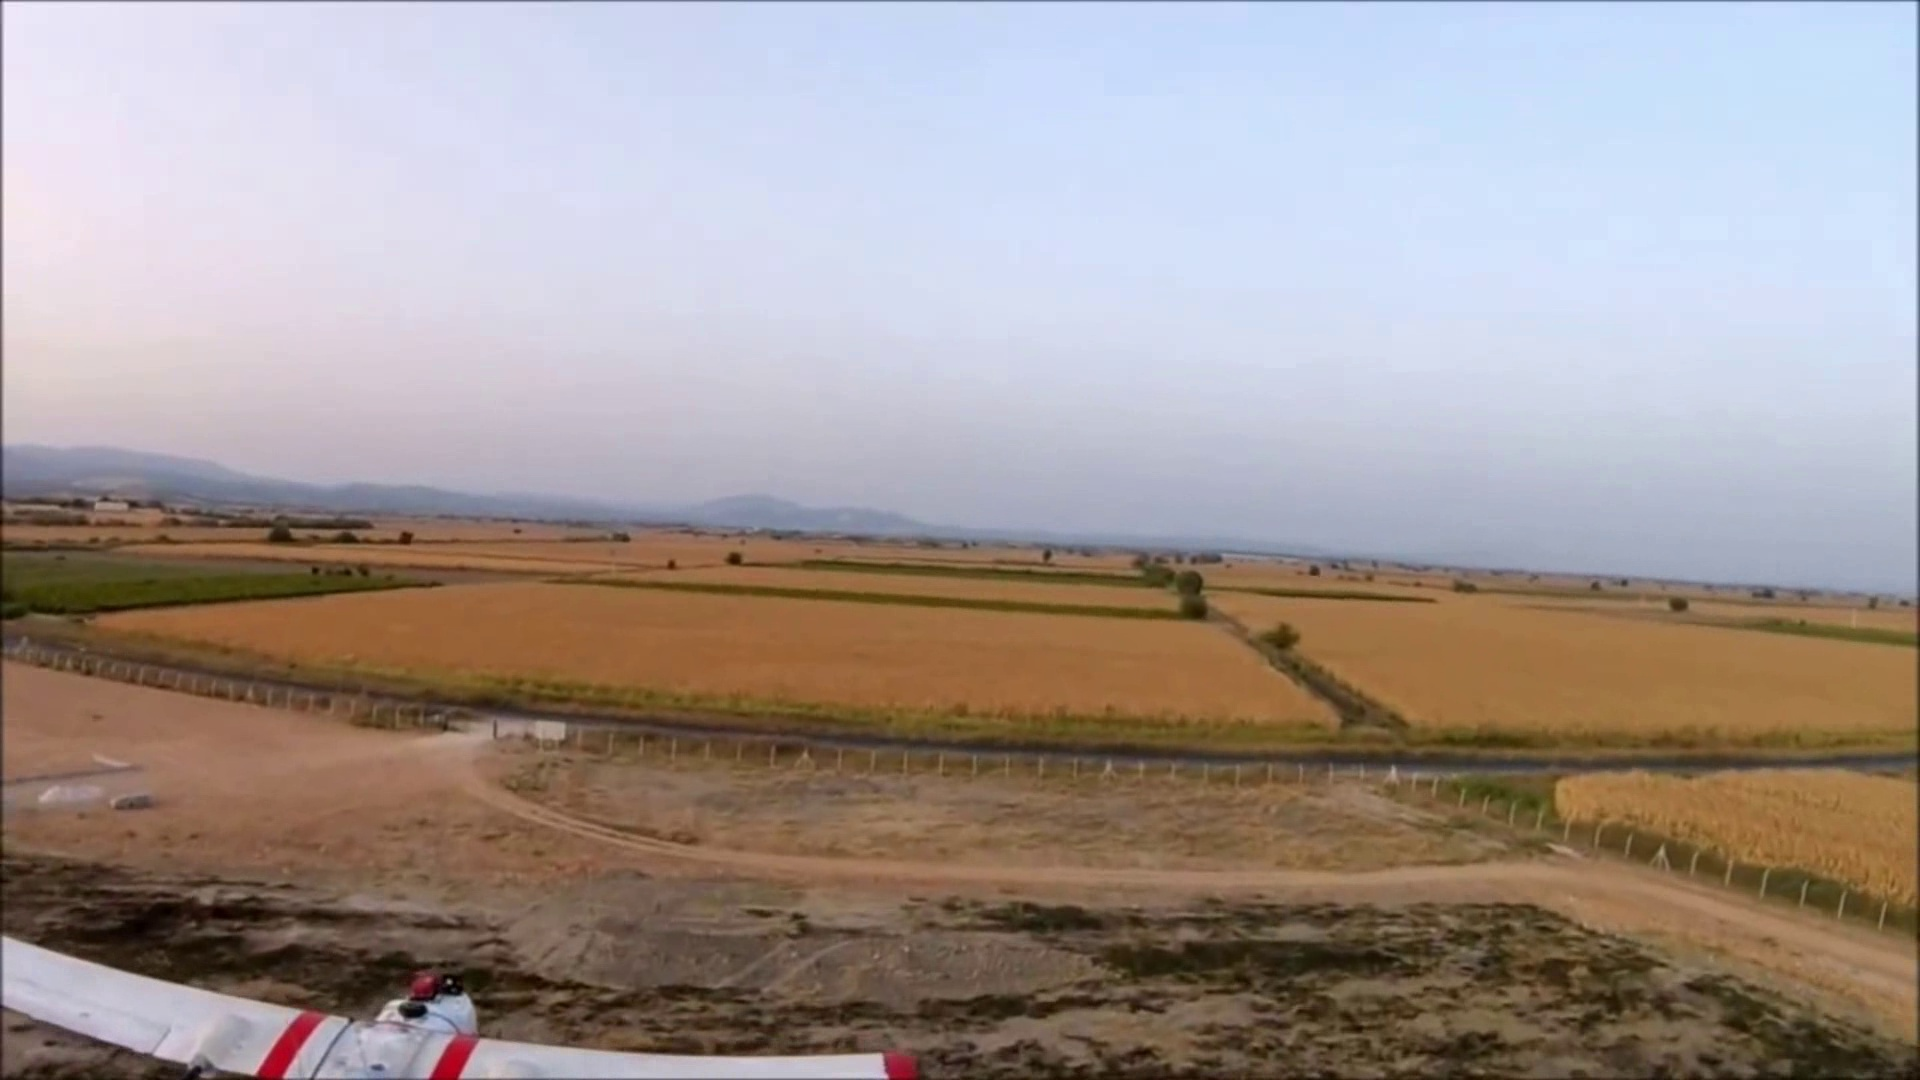airplane: (1, 934, 483, 1069)
